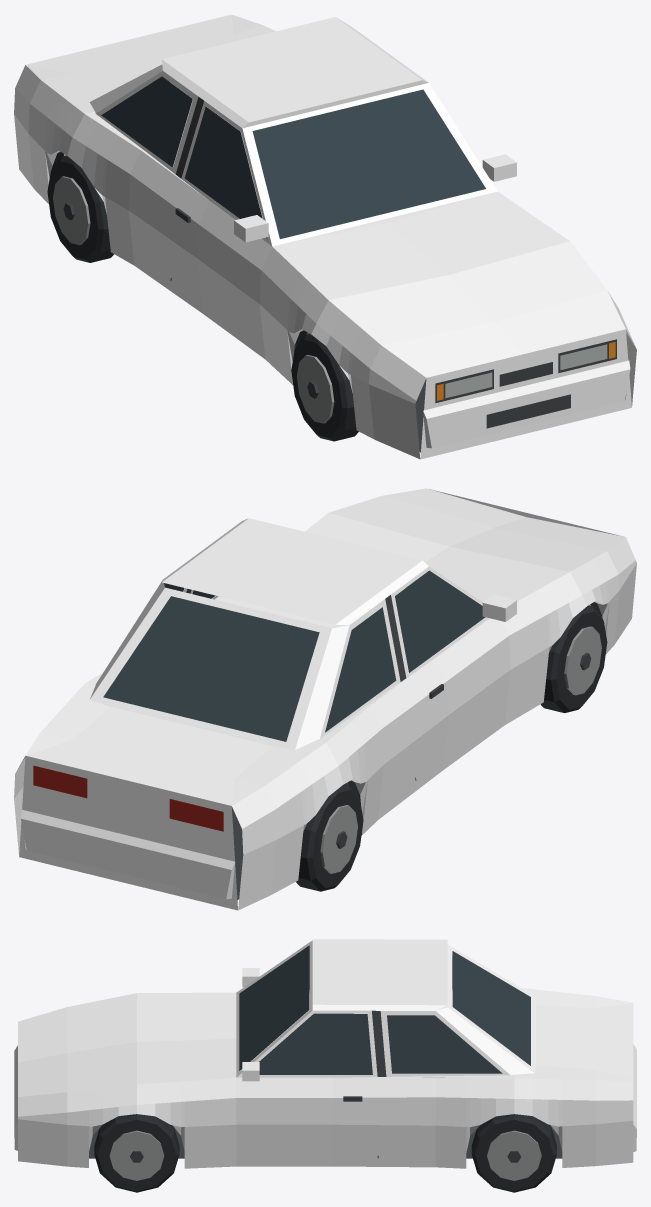
File: hayase_rin.glb
The picture shows the model from 3 angles, top to bottom: view 1: azimuth 30°, elevation 25°; view 2: azimuth 150°, elevation 25°; view 3: azimuth 270°, elevation 25°; orthographic projection. The views are drawn at different scales.
Parts seen in each view (by area): view 1: hayase_rin; view 2: hayase_rin; view 3: hayase_rin.
Part boxes in pixels (x1,y1,x2,y2): hayase_rin: (14, 14, 636, 459); hayase_rin: (14, 488, 636, 910); hayase_rin: (14, 939, 636, 1192).
Size of the model in its own units: 1.68 by 1.29 by 4.24.
8 materials, 1 textured.
